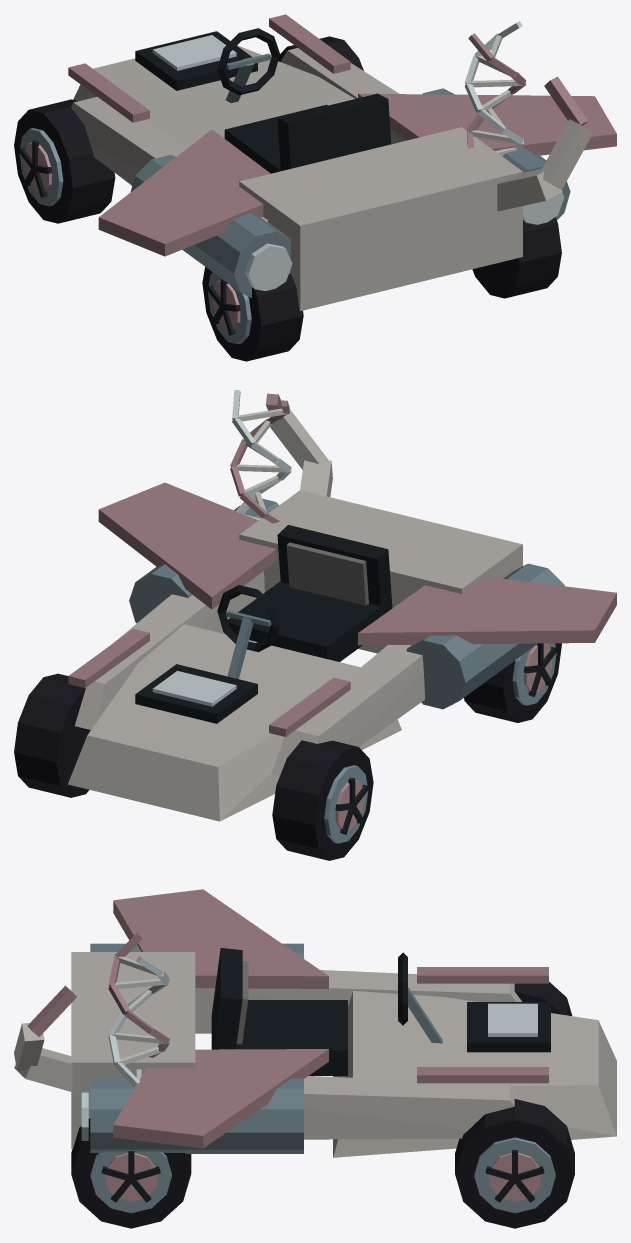
Rendered from kart.glb.
The picture shows the model from 3 angles, top to bottom: view 1: azimuth 30°, elevation 25°; view 2: azimuth 150°, elevation 25°; view 3: azimuth 270°, elevation 25°; orthographic projection.
Visible parts, largest first — view 1: identity-lab-pod-lab-pod-segmented-shell, identity-lab-pod-motif-wings, identity-lab-pod-driver-cockpit, wheel-front-left, wheel-rear-left, identity-lab-pod-motif-tail, wheel-rear-right, identity-lab-pod-motif-dna, wheel-front-right; view 2: identity-lab-pod-lab-pod-segmented-shell, identity-lab-pod-motif-wings, identity-lab-pod-driver-cockpit, wheel-front-left, wheel-front-right, wheel-rear-left, identity-lab-pod-motif-dna, identity-lab-pod-motif-tail; view 3: identity-lab-pod-lab-pod-segmented-shell, identity-lab-pod-motif-wings, wheel-front-right, identity-lab-pod-driver-cockpit, wheel-rear-right, identity-lab-pod-motif-dna, identity-lab-pod-motif-tail, wheel-front-left.
Part boxes in pixels (x1=…): identity-lab-pod-lab-pod-segmented-shell: x1=68, y1=14, x2=570, y2=311; identity-lab-pod-motif-wings: x1=98, y1=93, x2=616, y2=256; identity-lab-pod-driver-cockpit: x1=217, y1=28, x2=391, y2=173; wheel-front-left: x1=14, y1=99, x2=115, y2=223; wheel-rear-left: x1=202, y1=267, x2=303, y2=361; identity-lab-pod-motif-tail: x1=497, y1=76, x2=593, y2=211; wheel-rear-right: x1=472, y1=217, x2=561, y2=298; identity-lab-pod-motif-dna: x1=464, y1=21, x2=526, y2=156; wheel-front-right: x1=278, y1=36, x2=363, y2=70; identity-lab-pod-lab-pod-segmented-shell: x1=68, y1=490, x2=564, y2=821; identity-lab-pod-motif-wings: x1=98, y1=482, x2=616, y2=645; identity-lab-pod-driver-cockpit: x1=217, y1=525, x2=392, y2=679; wheel-front-left: x1=272, y1=740, x2=373, y2=860; wheel-front-right: x1=14, y1=673, x2=90, y2=797; wheel-rear-left: x1=464, y1=643, x2=561, y2=722; identity-lab-pod-motif-dna: x1=230, y1=390, x2=291, y2=523; identity-lab-pod-motif-tail: x1=265, y1=393, x2=332, y2=496; identity-lab-pod-lab-pod-segmented-shell: x1=71, y1=943, x2=616, y2=1157; identity-lab-pod-motif-wings: x1=113, y1=889, x2=328, y2=1148; wheel-front-right: x1=455, y1=1099, x2=574, y2=1228; identity-lab-pod-driver-cockpit: x1=211, y1=948, x2=442, y2=1075; wheel-rear-right: x1=71, y1=1118, x2=191, y2=1228; identity-lab-pod-motif-dna: x1=108, y1=933, x2=169, y2=1086; identity-lab-pod-motif-tail: x1=14, y1=985, x2=76, y2=1091; wheel-front-left: x1=514, y1=981, x2=572, y2=1015.
Bounding box in the file's own units: 2.92 × 1.47 × 3.02.
